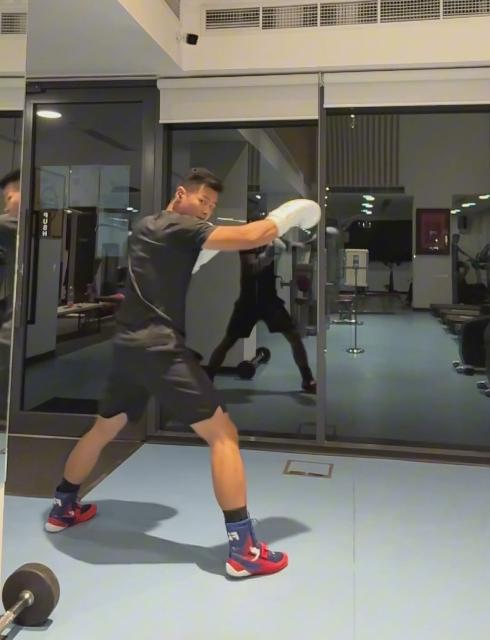punch: (44, 167, 324, 583)
